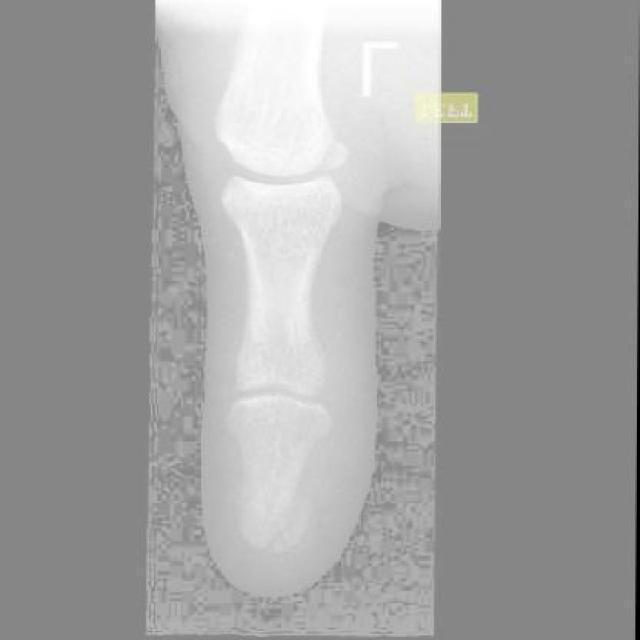Fracture: (225, 478, 310, 571)
